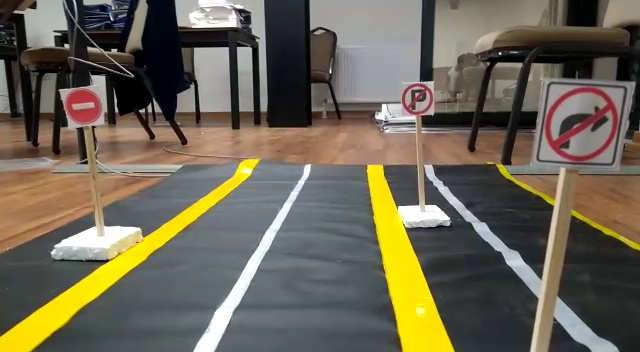girisi_olmayan_yol: (62, 86, 103, 128)
park_yapilmaz: (401, 83, 434, 114)
saga_donulmez: (548, 77, 618, 164)
